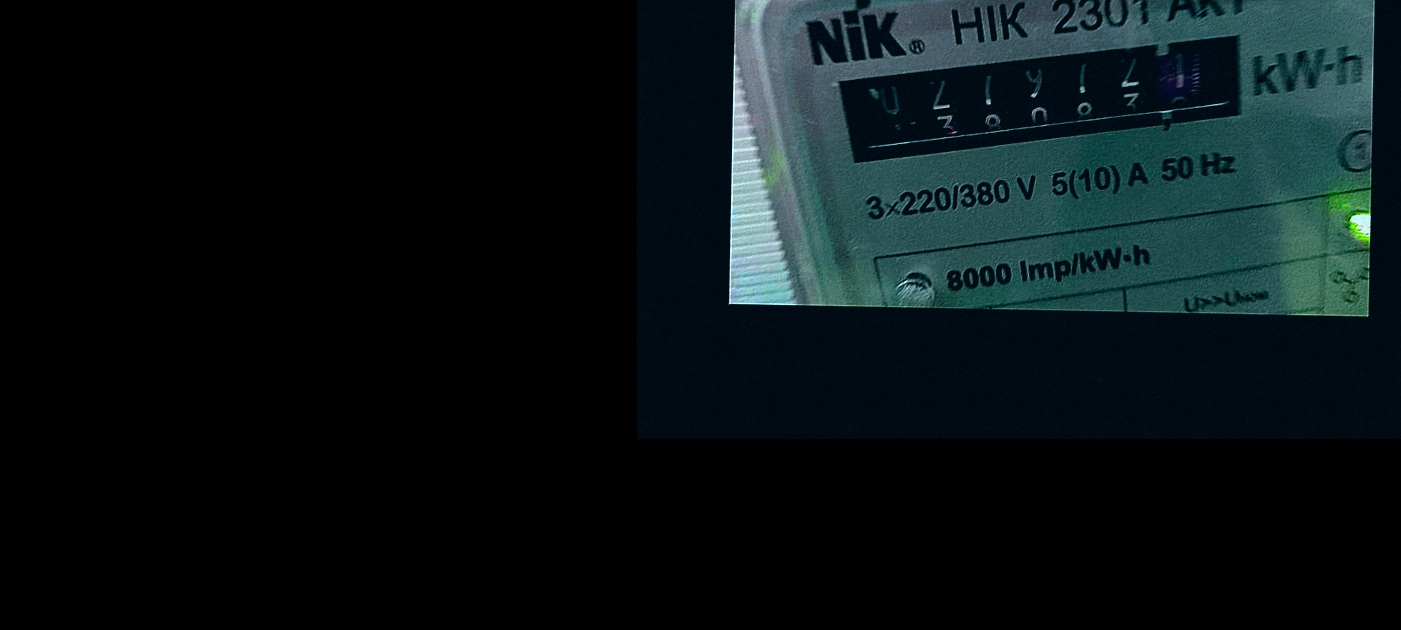0: (875, 80, 904, 116)
1: (1169, 49, 1192, 92)
2: (924, 72, 954, 111), (1115, 52, 1143, 89)
7: (1068, 56, 1094, 97), (974, 70, 998, 107)
9: (1021, 64, 1048, 99)
screen: (820, 18, 1275, 181)
